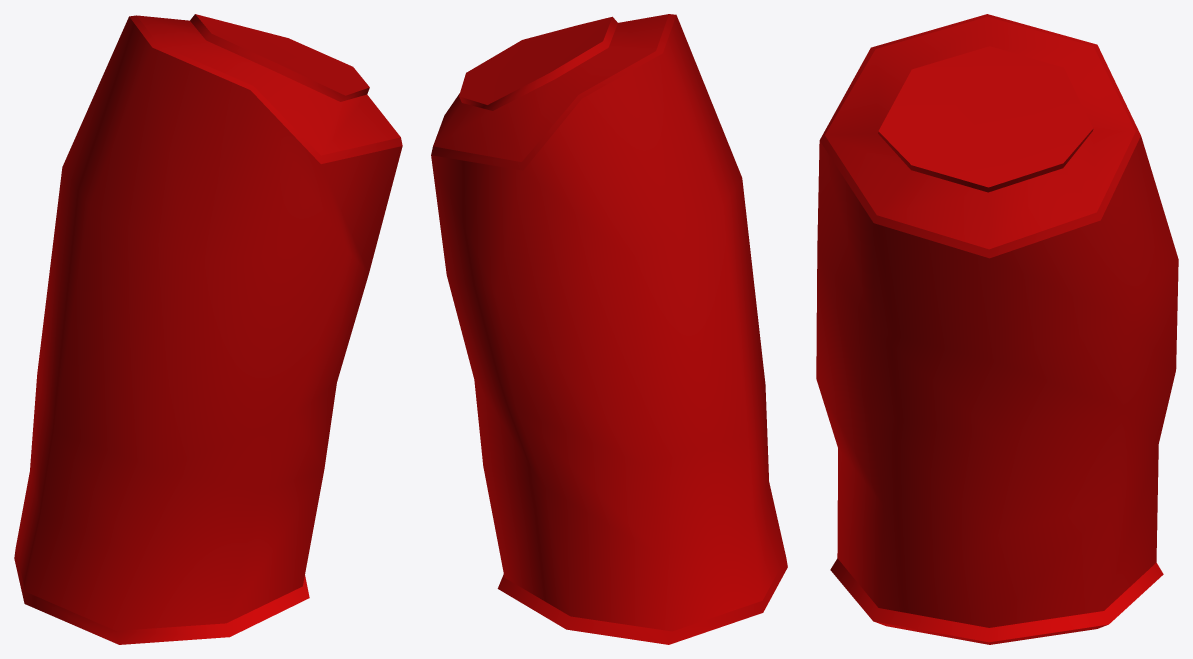
File: TTFECan_B.fbx
3 renders of one model, left to right at view 1: azimuth 30°, elevation 25°; view 2: azimuth 150°, elevation 25°; view 3: azimuth 270°, elevation 25°, orthographic. The views are drawn at different scales.
Parts seen in each view (by area): view 1: TTFECan_B; view 2: TTFECan_B; view 3: TTFECan_B.
Part boxes in pixels (box(x1,y1,x2,y2)): TTFECan_B: box(14, 14, 402, 644); TTFECan_B: box(431, 14, 787, 644); TTFECan_B: box(816, 14, 1178, 644).
Bounding box in the file's own units: 0.0784 × 0.1202 × 0.0697.
